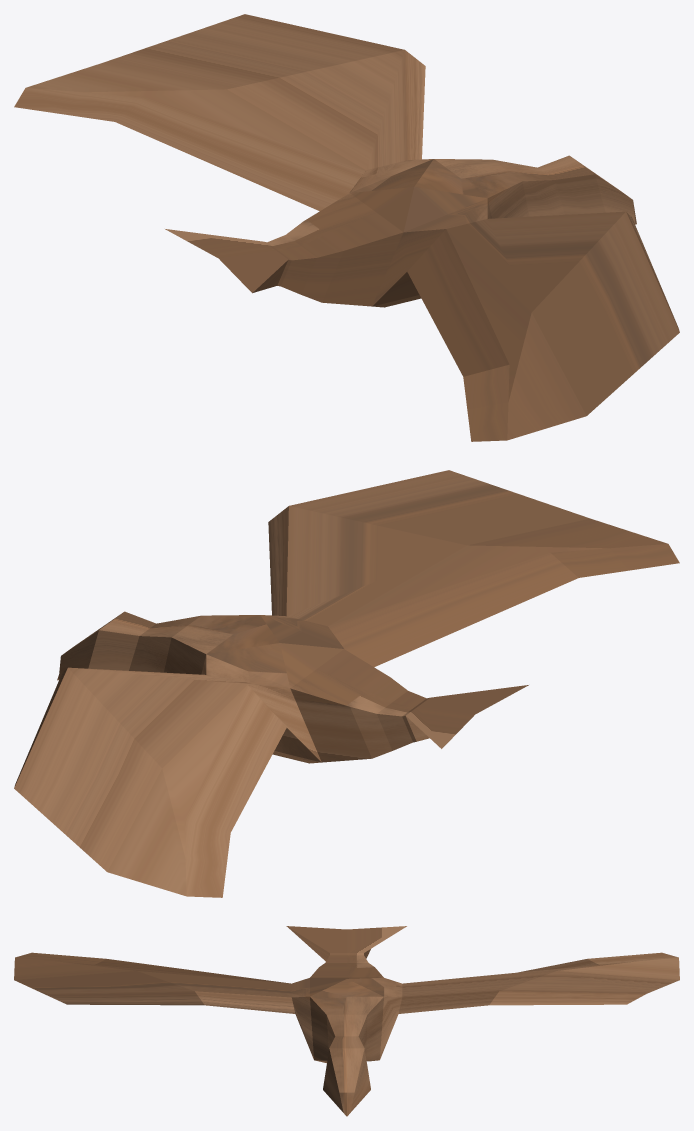
File: oiseau_texture.fbx
The picture shows the model from 3 angles, top to bottom: view 1: azimuth 30°, elevation 25°; view 2: azimuth 150°, elevation 25°; view 3: azimuth 270°, elevation 25°; orthographic projection. The views are drawn at different scales.
Parts seen in each view (by area): view 1: Sphere; view 2: Sphere; view 3: Sphere.
Part boxes in pixels (box(x1,y1,x2,y2)): Sphere: box(14, 14, 679, 441); Sphere: box(14, 470, 679, 897); Sphere: box(14, 926, 679, 1116).
Size of the model in its own units: 460 by 142 by 898.
